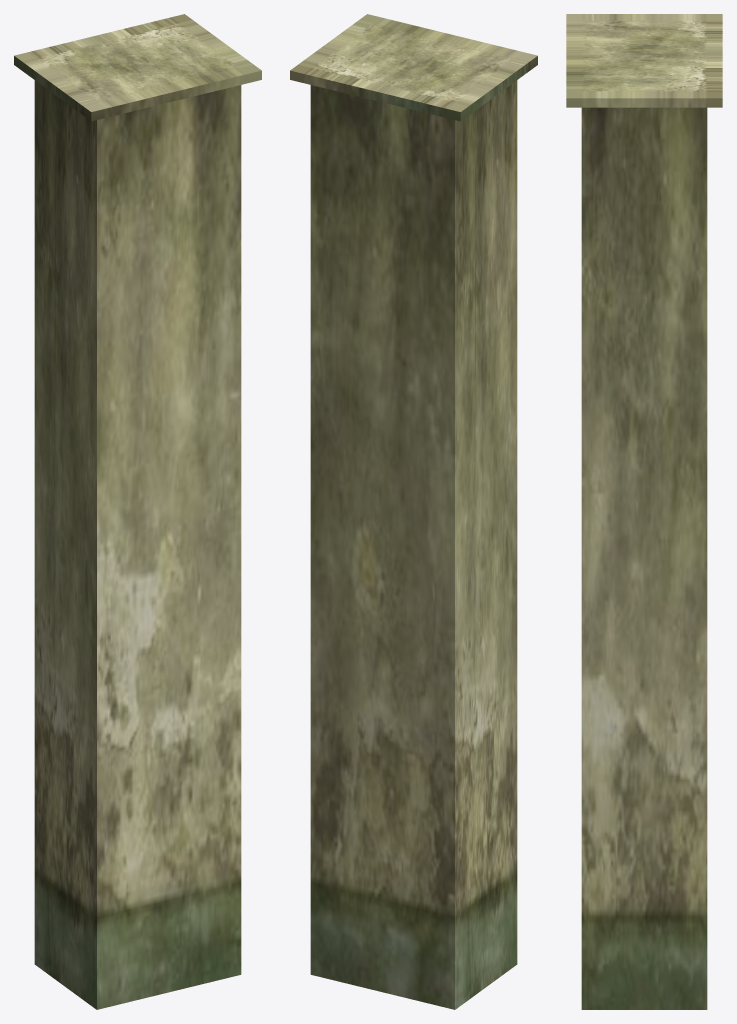
The model's file is Pillar2.fbx.
The picture shows the model from 3 angles, left to right: view 1: azimuth 30°, elevation 25°; view 2: azimuth 150°, elevation 25°; view 3: azimuth 270°, elevation 25°; orthographic projection.
Visible parts, largest first — view 1: Cube; view 2: Cube; view 3: Cube.
Part boxes in pixels (x1,y1,x2,y2): Cube: [14, 14, 261, 1009]; Cube: [290, 14, 537, 1009]; Cube: [566, 14, 722, 1009].
Bounding box in the file's own units: 390 × 1982 × 306.
1 material, 1 textured.
